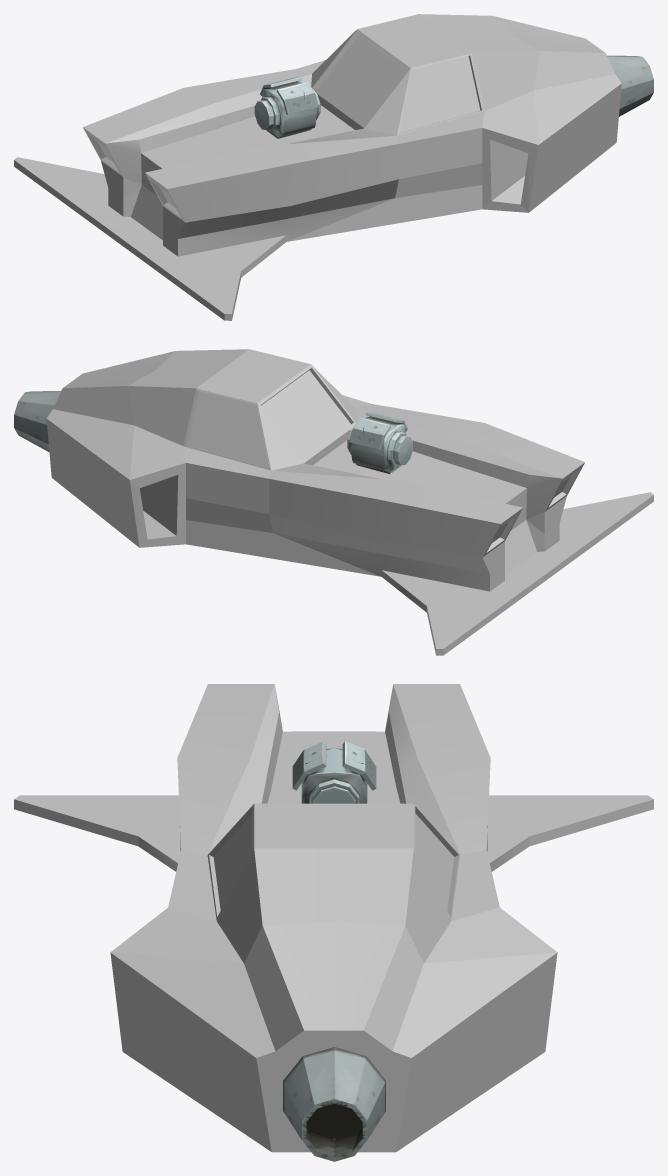
The model's file is Export_vlieg1.obj.
3 views of the same model, one above another, from view 1: azimuth 30°, elevation 25°; view 2: azimuth 150°, elevation 25°; view 3: azimuth 270°, elevation 25° (orthographic). The views are drawn at different scales.
Visible parts, largest first — view 1: mainBody, motor, uitlaat; view 2: mainBody, motor, uitlaat; view 3: mainBody, uitlaat, motor.
Part boxes in pixels (x1,y1,x2,y2): mainBody: (14, 14, 621, 320); motor: (254, 77, 320, 138); uitlaat: (607, 55, 653, 116); mainBody: (46, 349, 653, 655); motor: (347, 412, 412, 473); uitlaat: (14, 391, 60, 451); mainBody: (14, 684, 653, 1152); uitlaat: (283, 1047, 385, 1161); motor: (292, 741, 376, 803).
Bounding box in the file's own units: 17.44 × 4.15 × 12.37.
